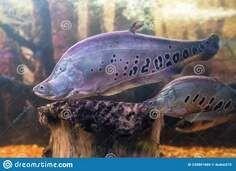Knifefish: (35, 21, 219, 99), (148, 75, 235, 121)
